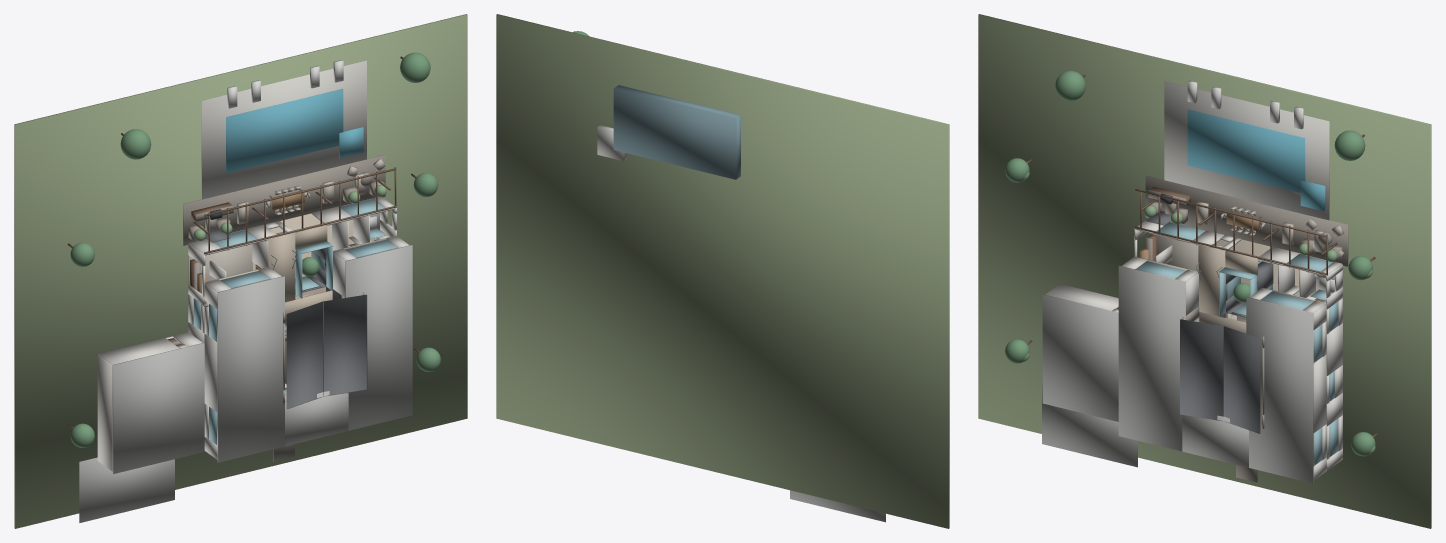
Rendered from Luxury_Custom_Home_Walkable_Model.glb.
3 renders of one model, left to right at view 1: azimuth 30°, elevation 25°; view 2: azimuth 150°, elevation 25°; view 3: azimuth 330°, elevation 25°, orthographic.
Visible parts, largest first — view 1: site_lawn, roof_left, garage_roof, roof_right, pool_deck, pool_water, rear_terrace, driveway, butterfly_right, butterfly_left, roof_bridge, garage_west_0 (+10 smaller); view 2: site_lawn, pool_basin, driveway, spa_basin; view 3: site_lawn, roof_left, roof_right, pool_deck, garage_roof, pool_water, rear_terrace, butterfly_left, driveway, butterfly_right, roof_bridge, upper_stair_landing_slab (+9 smaller).
Boxes of the visible parts, left/top/right/bottom form: site_lawn: left=14, top=14, right=467, bottom=528; roof_left: left=217, top=276, right=284, bottom=462; garage_roof: left=112, top=342, right=205, bottom=473; roof_right: left=345, top=245, right=412, bottom=430; pool_deck: left=201, top=60, right=366, bottom=199; pool_water: left=226, top=88, right=343, bottom=173; rear_terrace: left=183, top=155, right=385, bottom=245; driveway: left=79, top=457, right=174, bottom=522; butterfly_right: left=323, top=294, right=367, bottom=396; butterfly_left: left=286, top=301, right=323, bottom=408; roof_bridge: left=285, top=391, right=348, bottom=446; garage_west_0: left=97, top=355, right=112, bottom=471; site_lawn: left=496, top=14, right=949, bottom=528; pool_basin: left=613, top=85, right=740, bottom=179; driveway: left=790, top=490, right=885, bottom=522; spa_basin: left=597, top=125, right=626, bottom=161; site_lawn: left=978, top=14, right=1431, bottom=528; roof_left: left=1118, top=265, right=1185, bottom=451; roof_right: left=1246, top=297, right=1313, bottom=483; pool_deck: left=1164, top=81, right=1329, bottom=220; garage_roof: left=1042, top=294, right=1118, bottom=421; pool_water: left=1187, top=109, right=1305, bottom=192; rear_terrace: left=1145, top=175, right=1348, bottom=266; butterfly_left: left=1180, top=319, right=1223, bottom=421; driveway: left=1042, top=382, right=1137, bottom=467; butterfly_right: left=1223, top=326, right=1260, bottom=433; roof_bridge: left=1182, top=415, right=1248, bottom=467; upper_stair_landing_slab: left=1198, top=244, right=1225, bottom=317.
Size of the model in its own units: 51.82 by 45.26 by 8.21.
